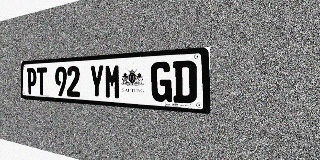2: (67, 66, 80, 97)
9: (55, 66, 67, 96)
D: (173, 60, 197, 104)
G: (151, 61, 172, 102)
M: (105, 64, 121, 99)
P: (27, 68, 36, 95)
T: (37, 67, 47, 95)
Y: (89, 64, 104, 98)
